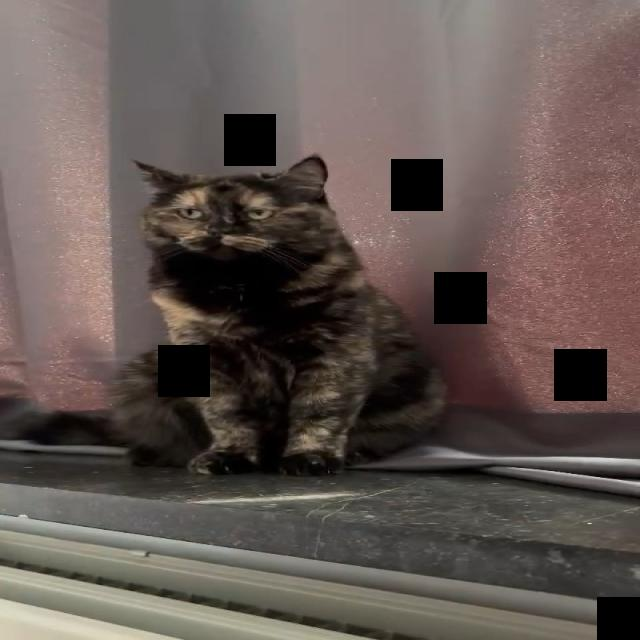authorized: (107, 152, 449, 476)
